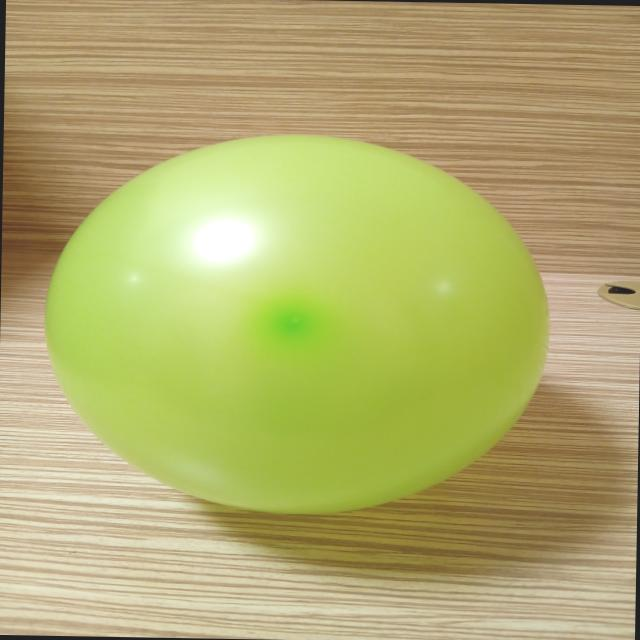balloon: (45, 135, 548, 513)
